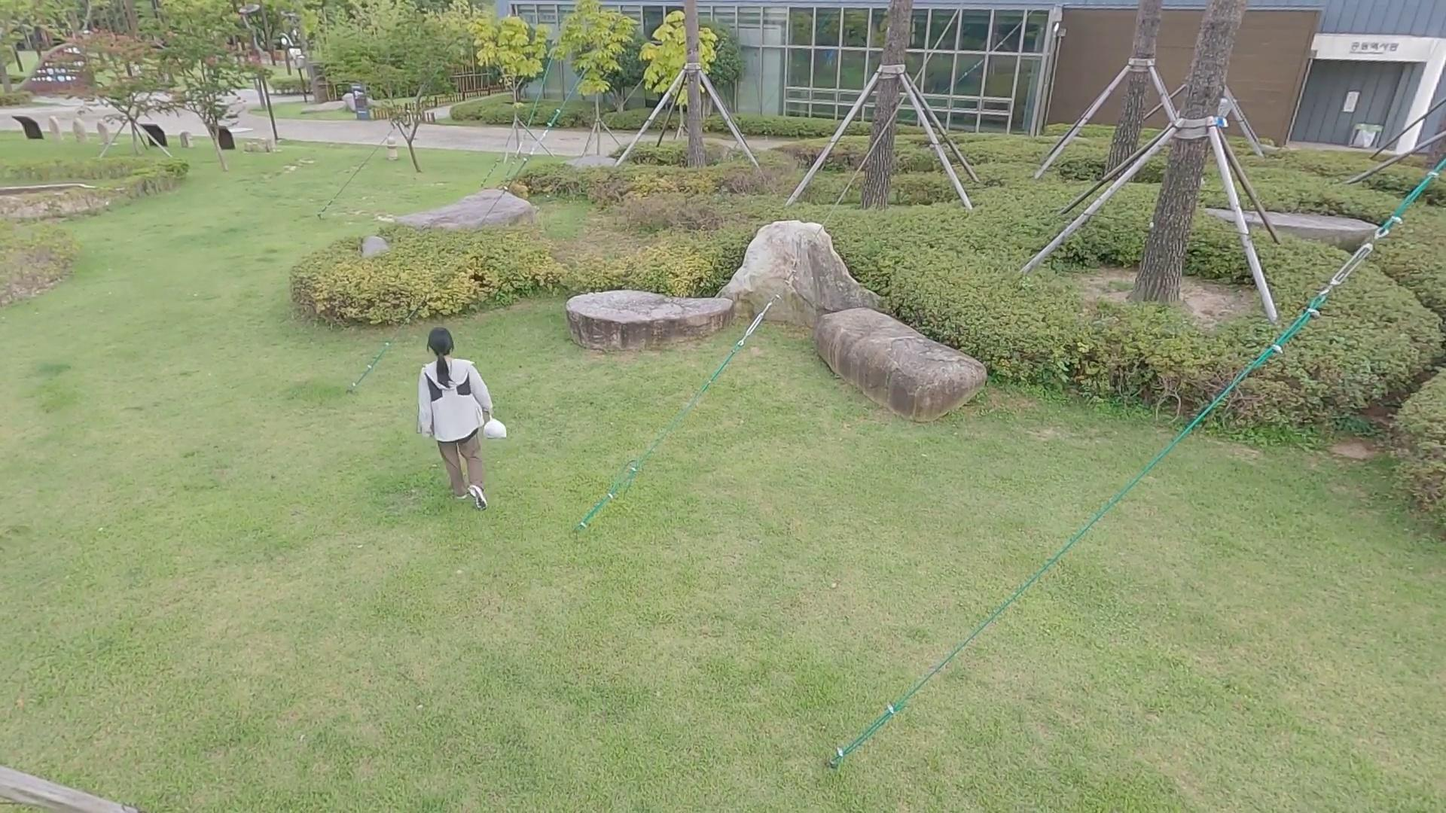person: (417, 322, 502, 516)
trash: (478, 412, 510, 444)
